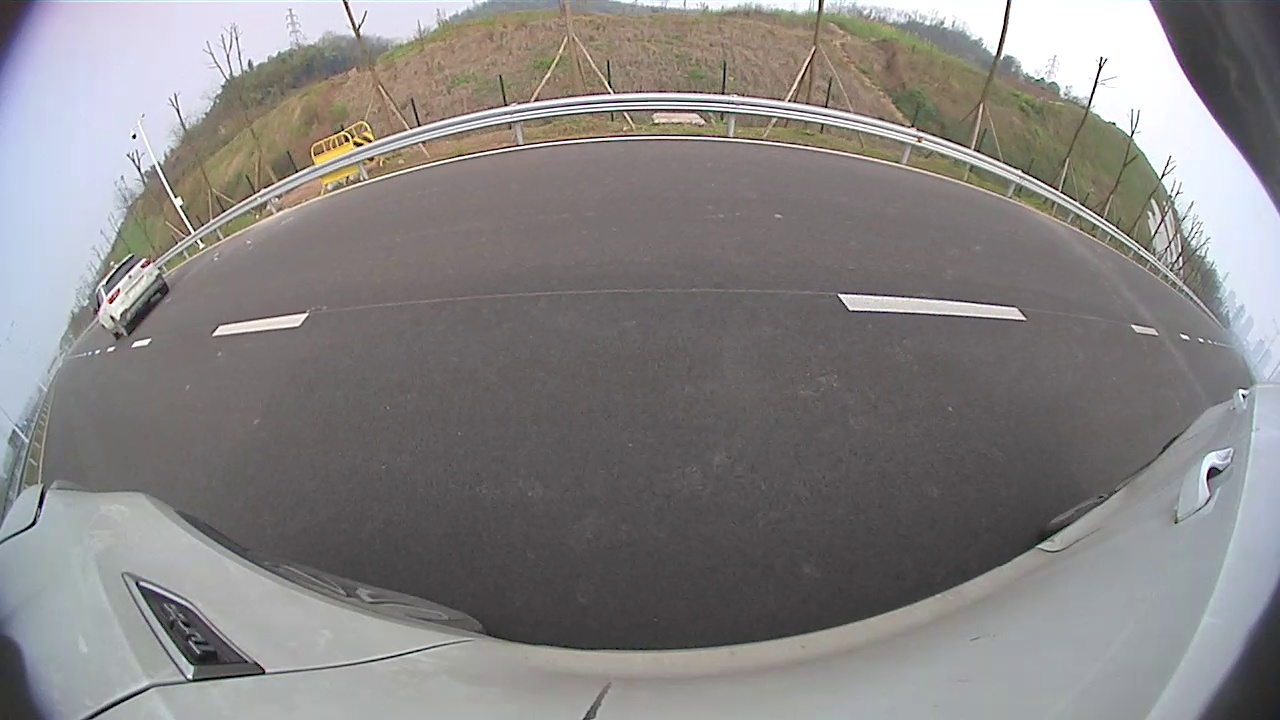car: (92, 253, 168, 339)
rear: (109, 316, 129, 338)
